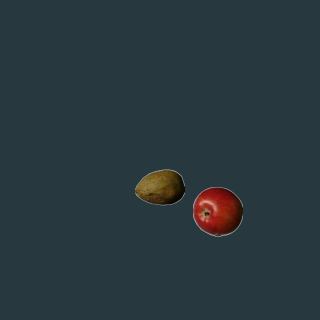Apple Braeburn: (192, 186, 242, 236)
Papaya: (134, 162, 184, 212)
